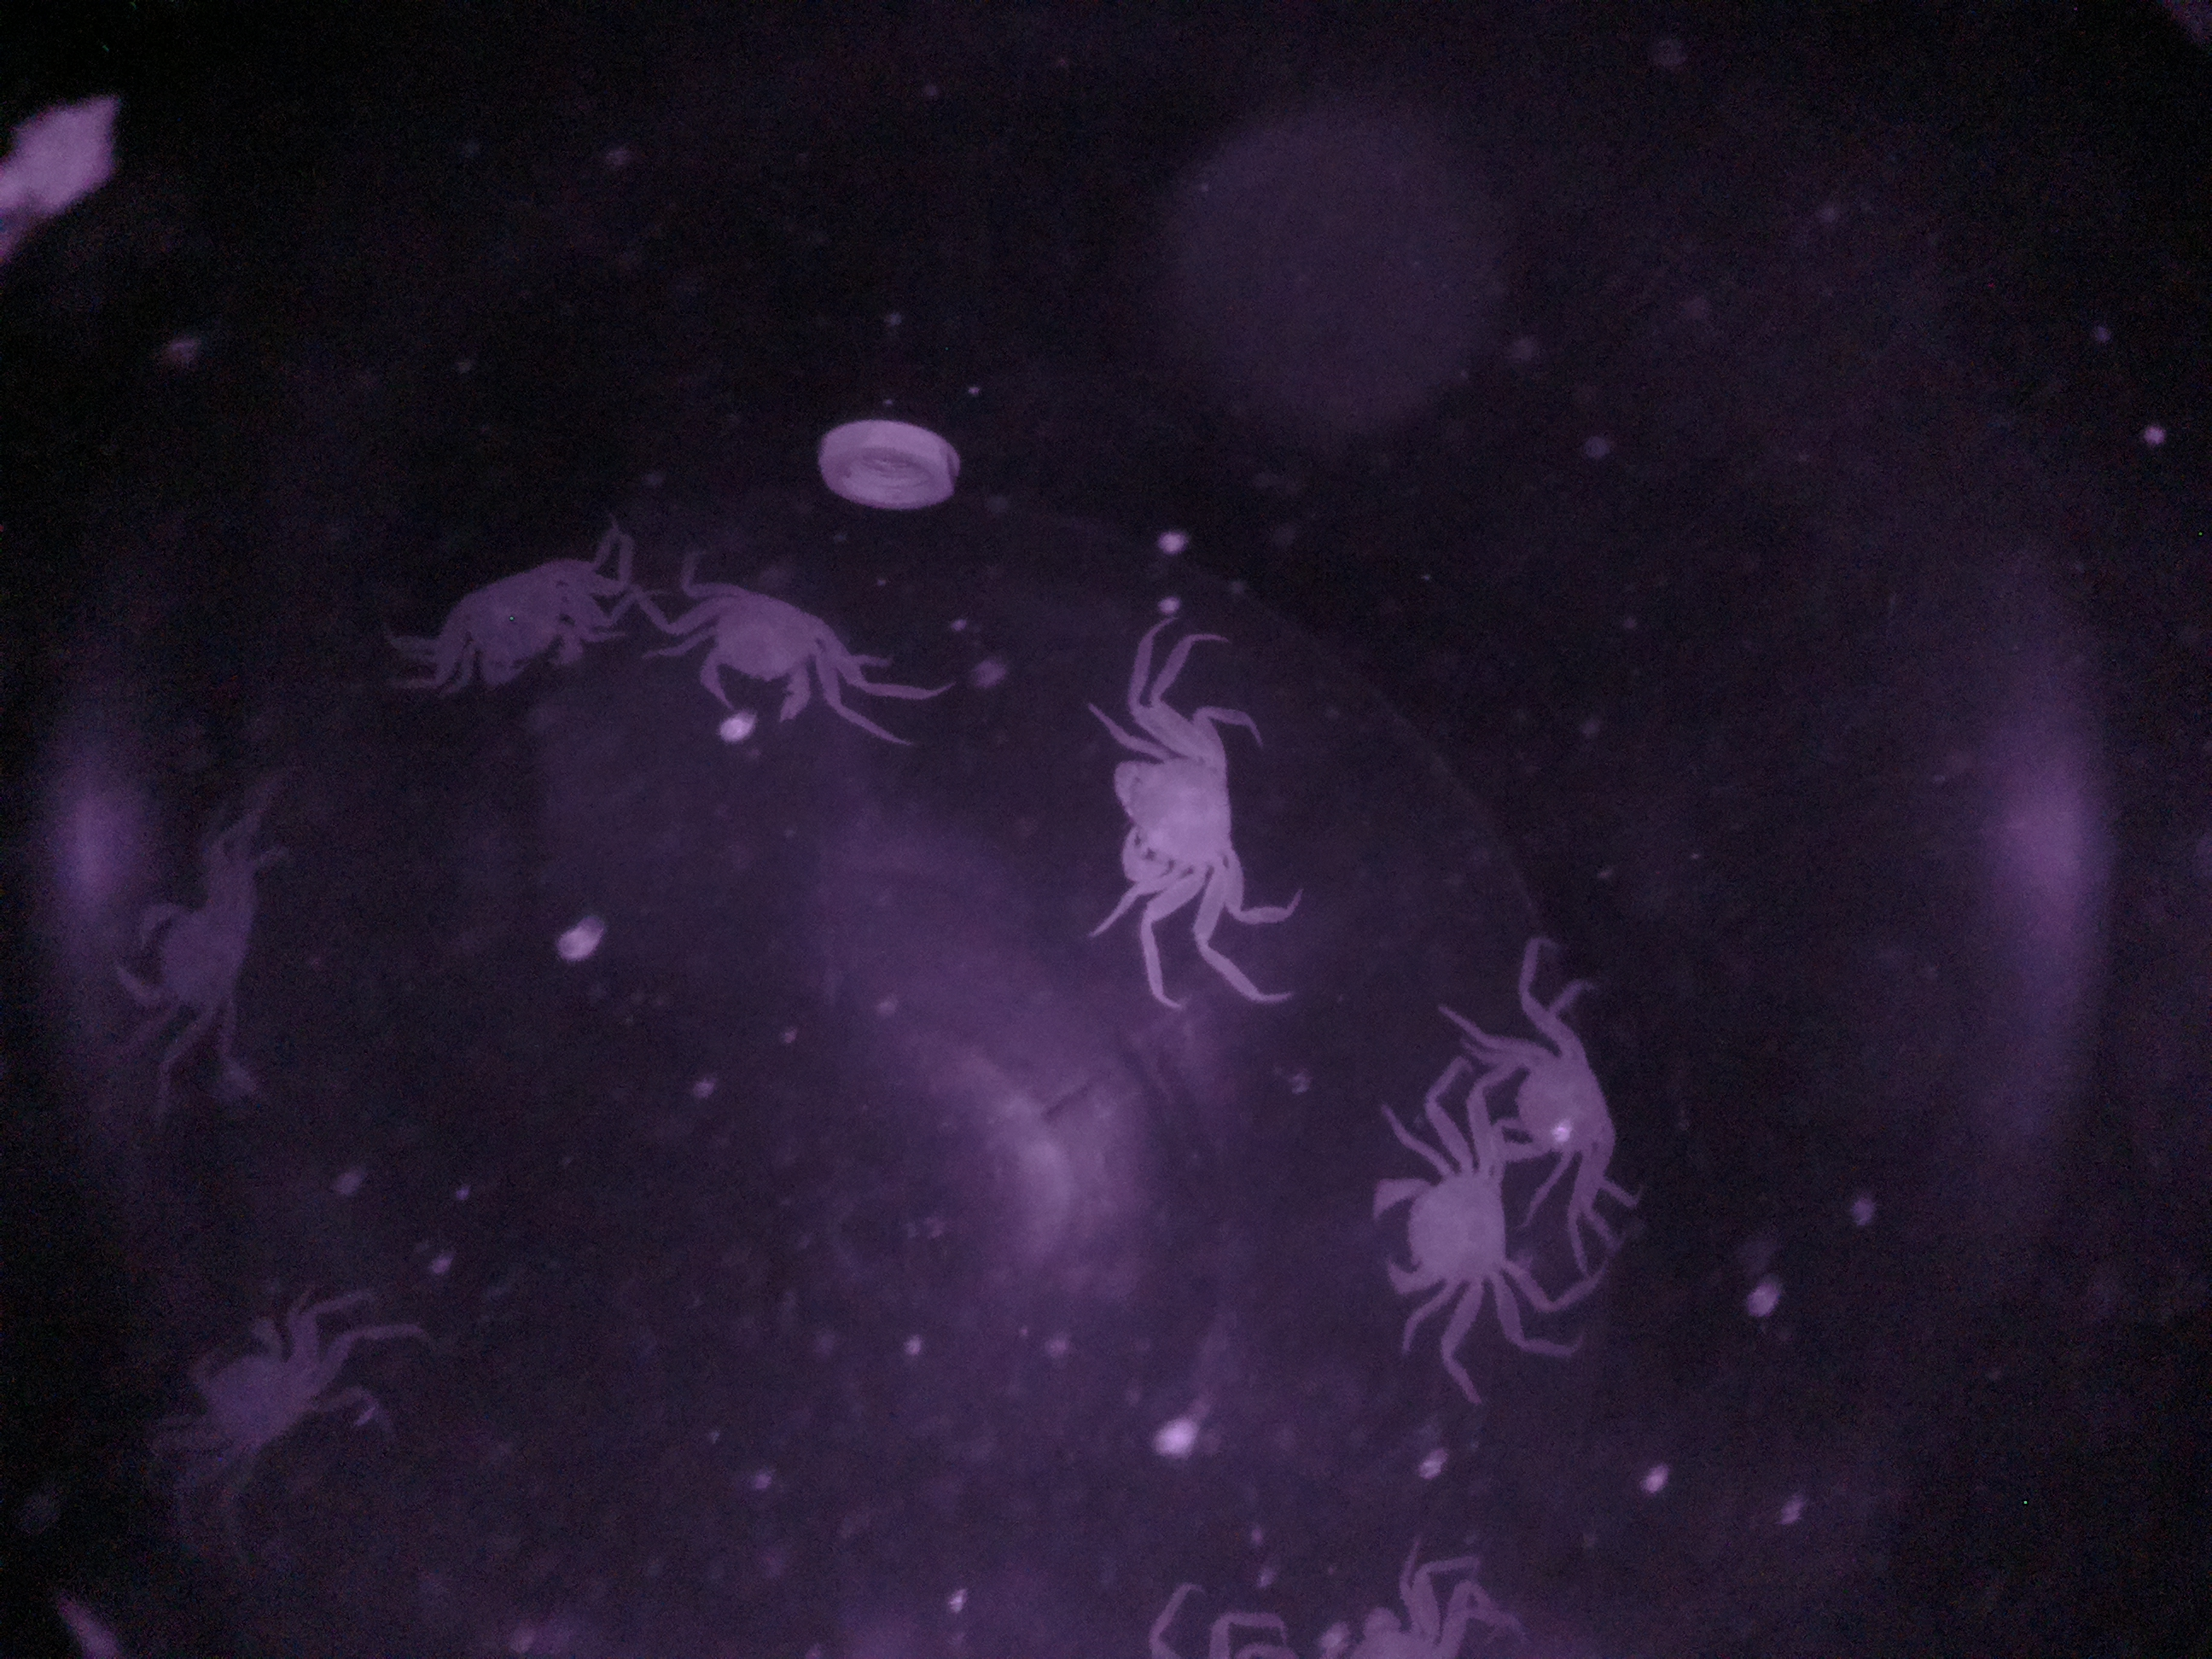Crab: (1087, 680, 1277, 957), (1352, 1098, 1541, 1356), (399, 532, 639, 709), (650, 563, 878, 741)
